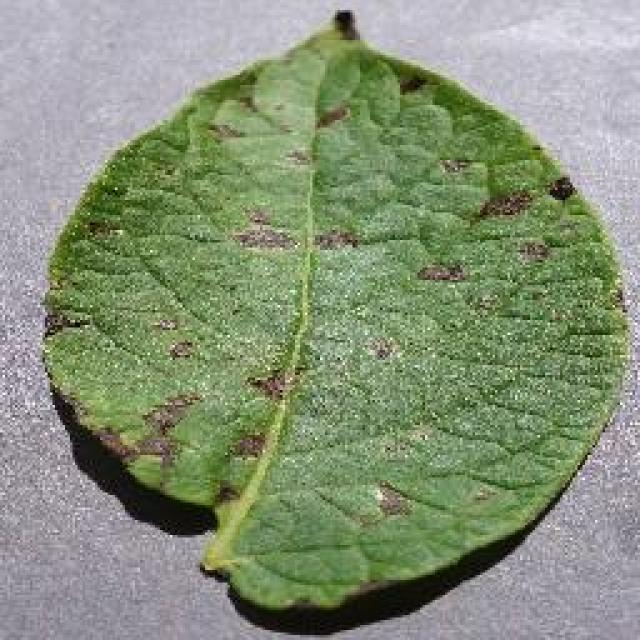early_blight: (35, 5, 633, 623)
